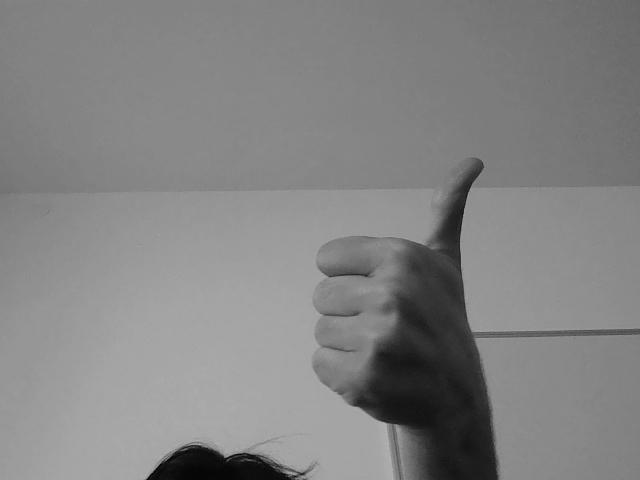good: (303, 147, 492, 420)
